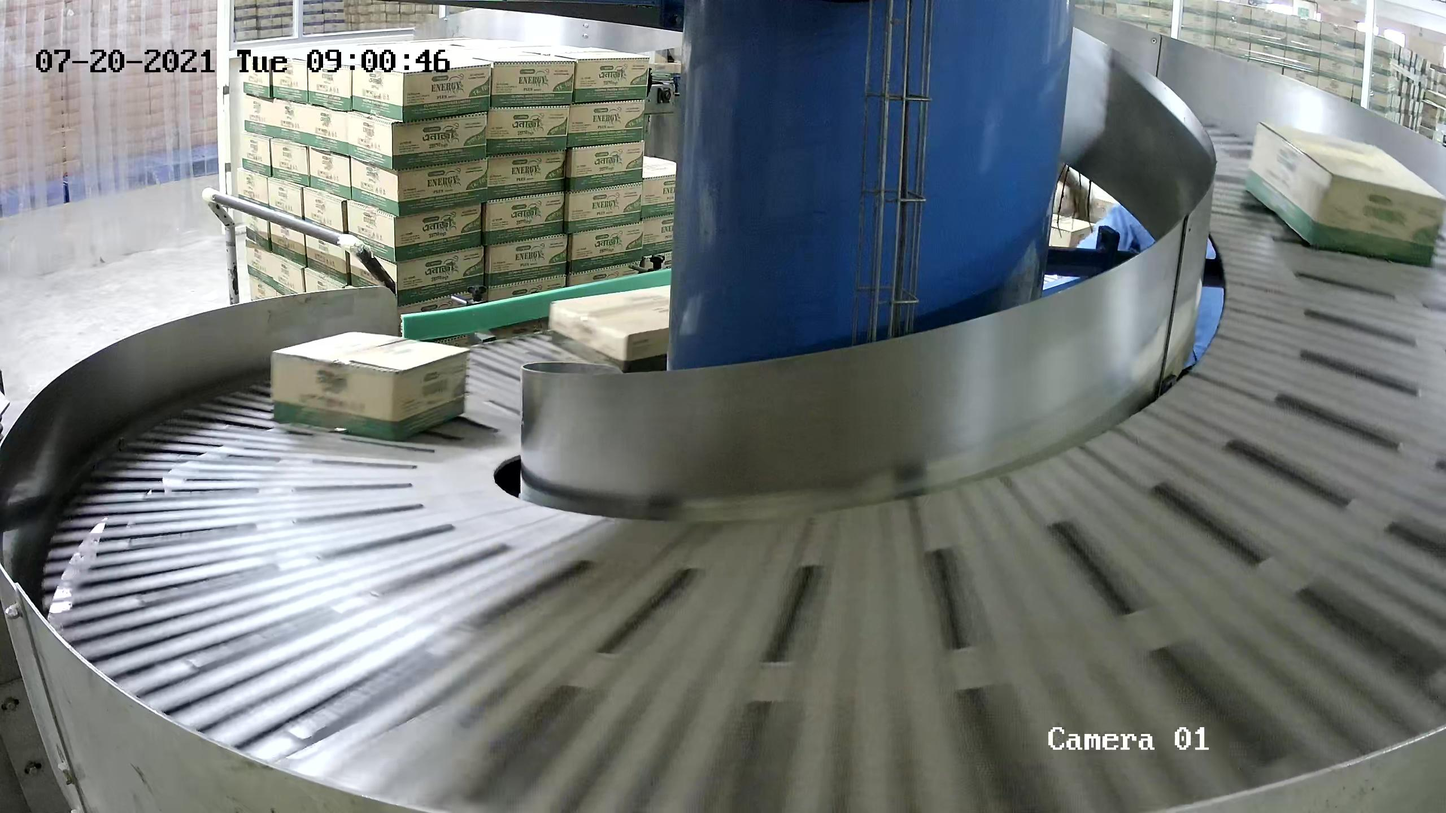Box: (1243, 120, 1446, 267), (269, 329, 472, 443), (546, 283, 671, 375)
